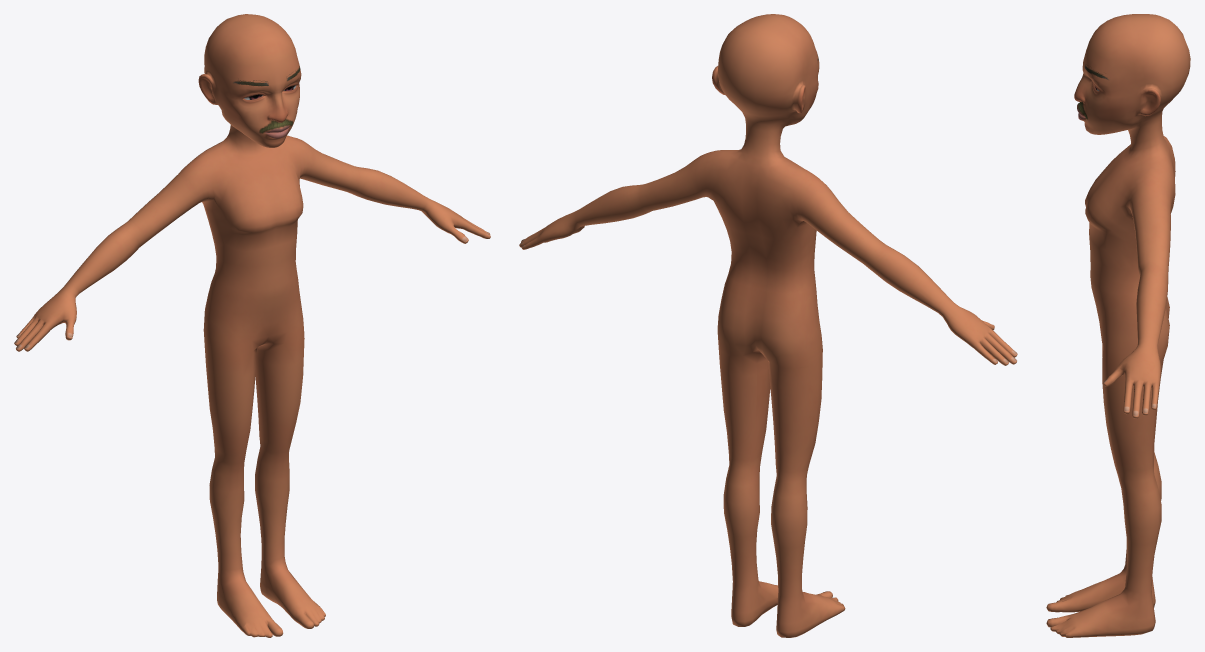
Rendered from frame_0022.glb.
The picture shows the model from 3 angles, left to right: view 1: azimuth 30°, elevation 25°; view 2: azimuth 150°, elevation 25°; view 3: azimuth 270°, elevation 25°; orthographic projection. The views are drawn at different scales.
Visible parts, largest first — view 1: frame_0022_head_geo; view 2: frame_0022_head_geo; view 3: frame_0022_head_geo.
Boxes of the visible parts, x1,y1,x2,y2 form: frame_0022_head_geo: (14,14,490,637); frame_0022_head_geo: (519,14,1017,637); frame_0022_head_geo: (1046,14,1190,637).
Size of the model in its own units: 1.28 by 1.5 by 0.3253.
Materials: 3 (3 with a texture image).
